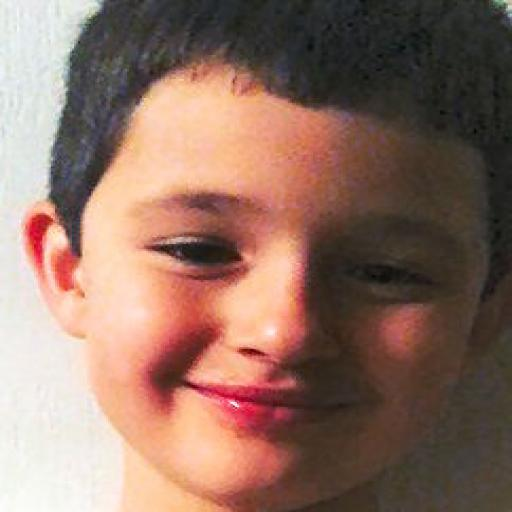Autism: (45, 2, 512, 512)
